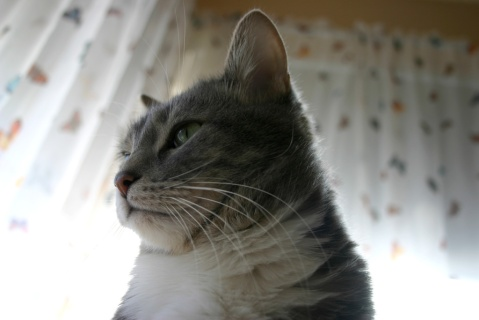Cat: (107, 7, 375, 319)
